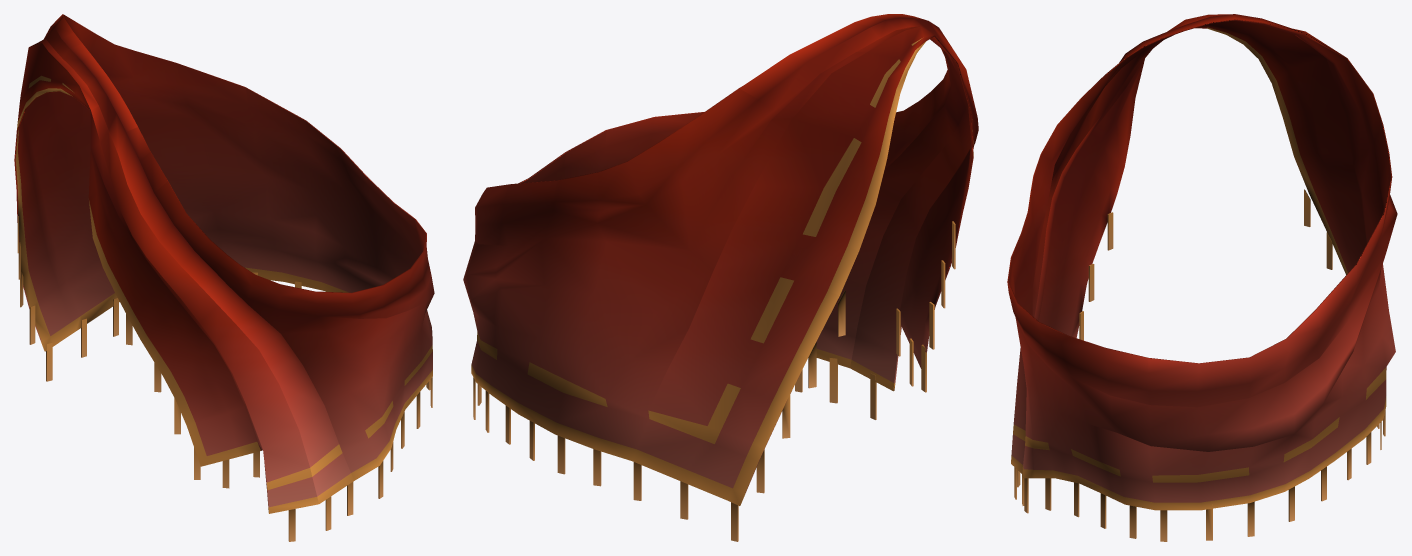
Rendered from Cloth_Poncho.gltf.
The picture shows the model from 3 angles, left to right: view 1: azimuth 30°, elevation 25°; view 2: azimuth 150°, elevation 25°; view 3: azimuth 270°, elevation 25°; orthographic projection. The views are drawn at different scales.
Visible parts, largest first — view 1: Cloth_Poncho; view 2: Cloth_Poncho; view 3: Cloth_Poncho.
Boxes of the visible parts, bbox=[...] form: Cloth_Poncho: bbox=[14, 14, 434, 541]; Cloth_Poncho: bbox=[463, 14, 978, 541]; Cloth_Poncho: bbox=[1007, 14, 1397, 541].
Size of the model in its own units: 1.06 by 1.23 by 1.03.
2 materials, 2 textured.
